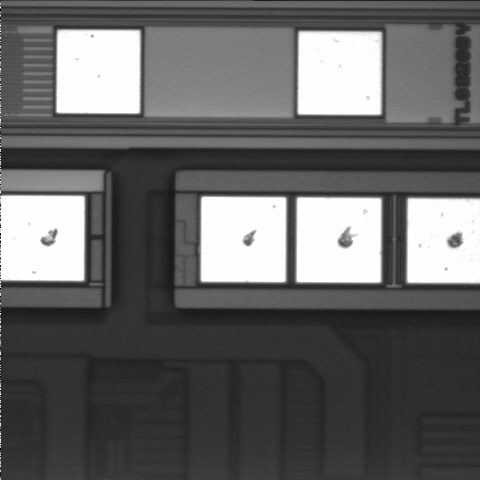pad: (201, 197, 286, 282), (297, 197, 381, 283), (57, 30, 140, 113), (298, 32, 381, 115)
